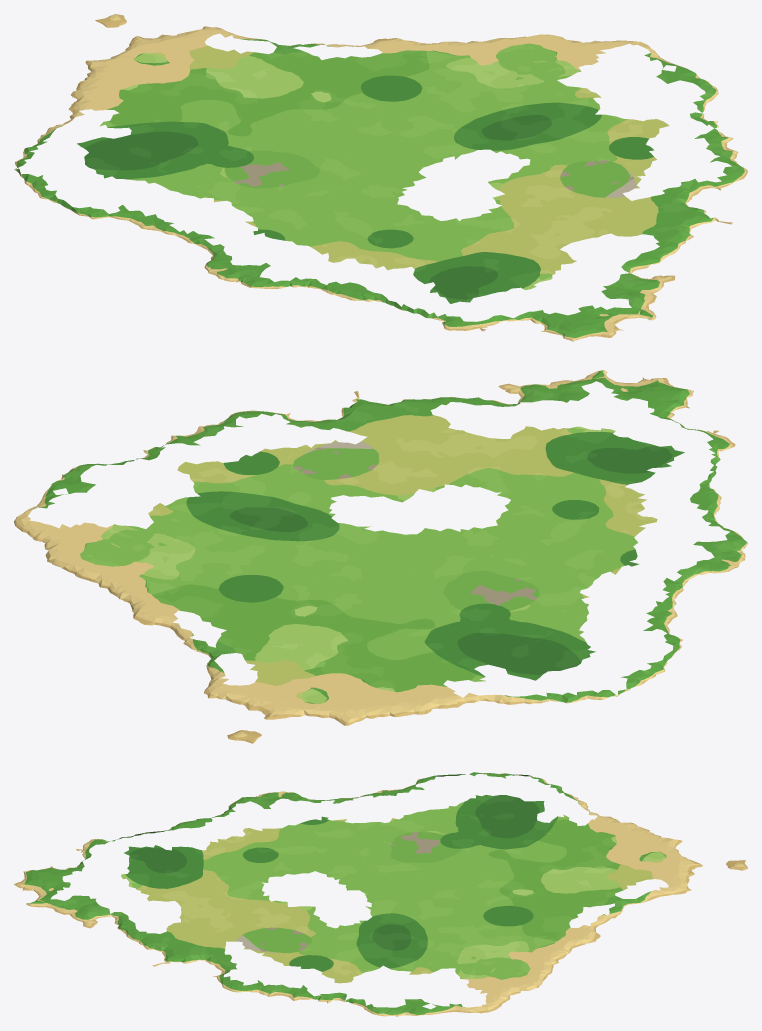
Rendered from Isl-flat2-Ground.fbx.
3 views of the same model, one above another, from view 1: azimuth 30°, elevation 25°; view 2: azimuth 150°, elevation 25°; view 3: azimuth 270°, elevation 25° (orthographic). The views are drawn at different scales.
Visible parts, largest first — view 1: Isl-flat2-Ground-c22, Isl-flat2-Ground-c12, Isl-flat2-Ground-c21, Isl-flat2-Ground-c11, Isl-flat2-Ground-c20; view 2: Isl-flat2-Ground-c22, Isl-flat2-Ground-c12, Isl-flat2-Ground-c21, Isl-flat2-Ground-c11, Isl-flat2-Ground-c20; view 3: Isl-flat2-Ground-c22, Isl-flat2-Ground-c21, Isl-flat2-Ground-c12, Isl-flat2-Ground-c11, Isl-flat2-Ground-c20.
Boxes of the visible parts, <box> form: Isl-flat2-Ground-c22: <box>179,26,715,168</box>; Isl-flat2-Ground-c12: <box>14,34,368,228</box>; Isl-flat2-Ground-c21: <box>369,86,747,321</box>; Isl-flat2-Ground-c11: <box>142,169,574,331</box>; Isl-flat2-Ground-c20: <box>574,306,656,337</box>; Isl-flat2-Ground-c22: <box>14,468,436,704</box>; Isl-flat2-Ground-c12: <box>240,555,682,725</box>; Isl-flat2-Ground-c21: <box>71,379,654,554</box>; Isl-flat2-Ground-c11: <box>437,394,747,615</box>; Isl-flat2-Ground-c20: <box>582,370,672,395</box>; Isl-flat2-Ground-c22: <box>383,876,690,1016</box>; Isl-flat2-Ground-c21: <box>46,876,386,1016</box>; Isl-flat2-Ground-c12: <box>383,772,702,877</box>; Isl-flat2-Ground-c11: <box>45,790,386,877</box>; Isl-flat2-Ground-c20: <box>14,876,51,907</box>.
Bounding box in the file's own units: 90.24 × 0.4897 × 115.
